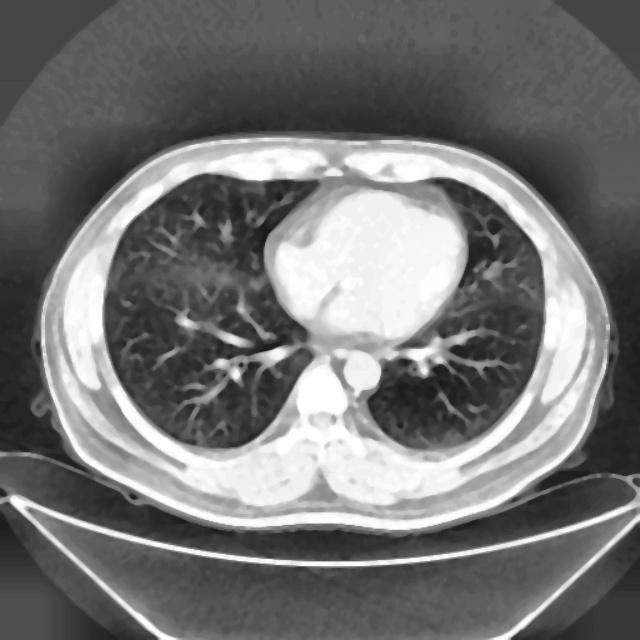covid: (33, 130, 616, 536)
